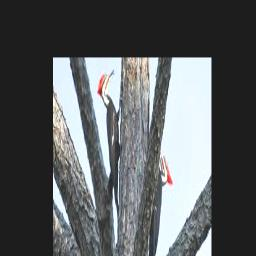Woodpecker: (98, 70, 122, 217), (148, 141, 173, 256)
